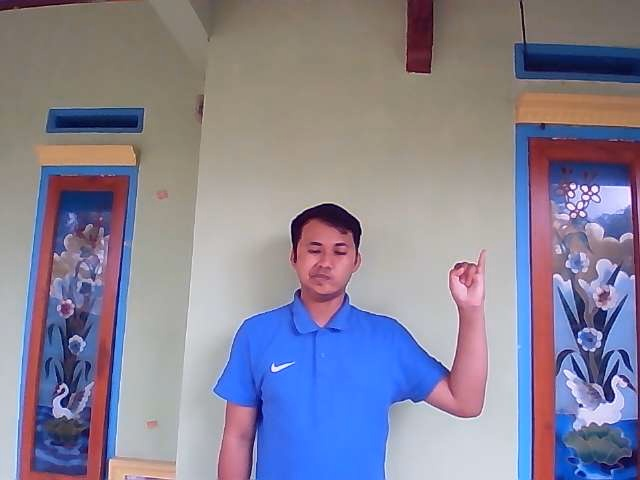I: (449, 248, 486, 305)
